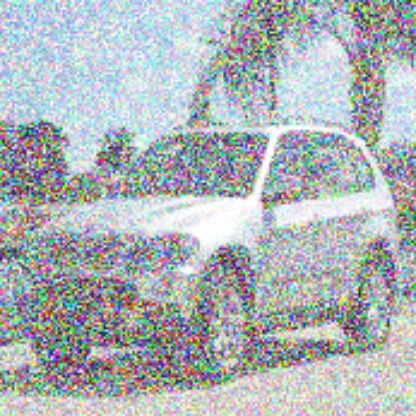Vehicle: (4, 84, 413, 412)
